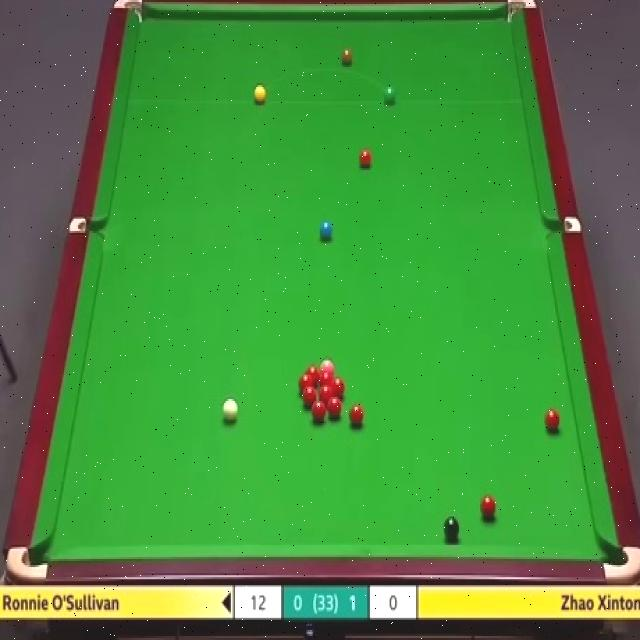black-ball: (443, 517, 461, 542)
blue-ball: (318, 220, 333, 242)
brown-ball: (341, 49, 354, 69)
green-ball: (382, 86, 398, 107)
pink-ball: (320, 360, 335, 370)
red-ball: (480, 495, 498, 521), (358, 146, 373, 170), (545, 410, 560, 432), (350, 406, 364, 428), (327, 398, 341, 420), (312, 402, 326, 423), (331, 378, 345, 398), (303, 387, 316, 408), (299, 374, 315, 391), (306, 368, 320, 385), (319, 370, 331, 386), (320, 386, 333, 400)
white-ball: (222, 399, 238, 420)
yellow-ball: (254, 84, 266, 104)
